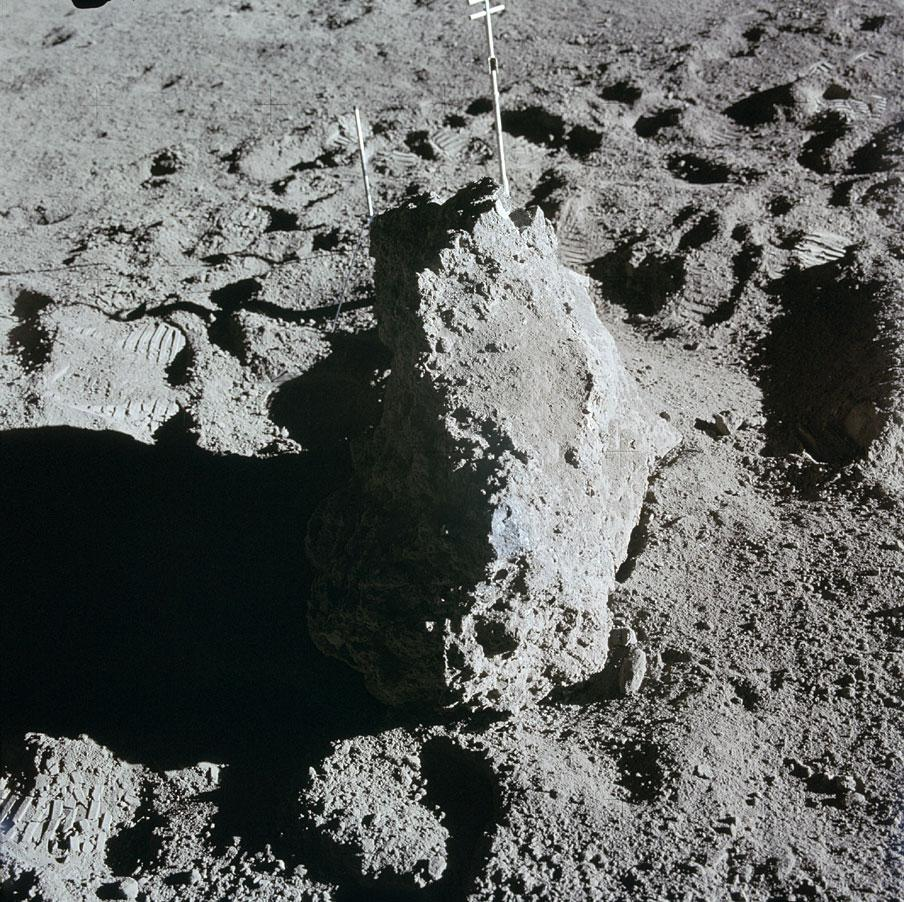rock: (309, 178, 680, 711)
